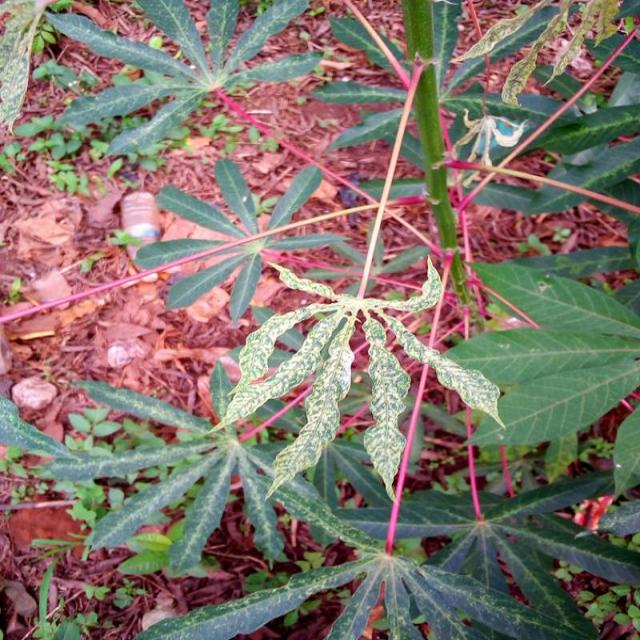cassava leaf: (1, 1, 638, 637), (210, 253, 507, 504)
